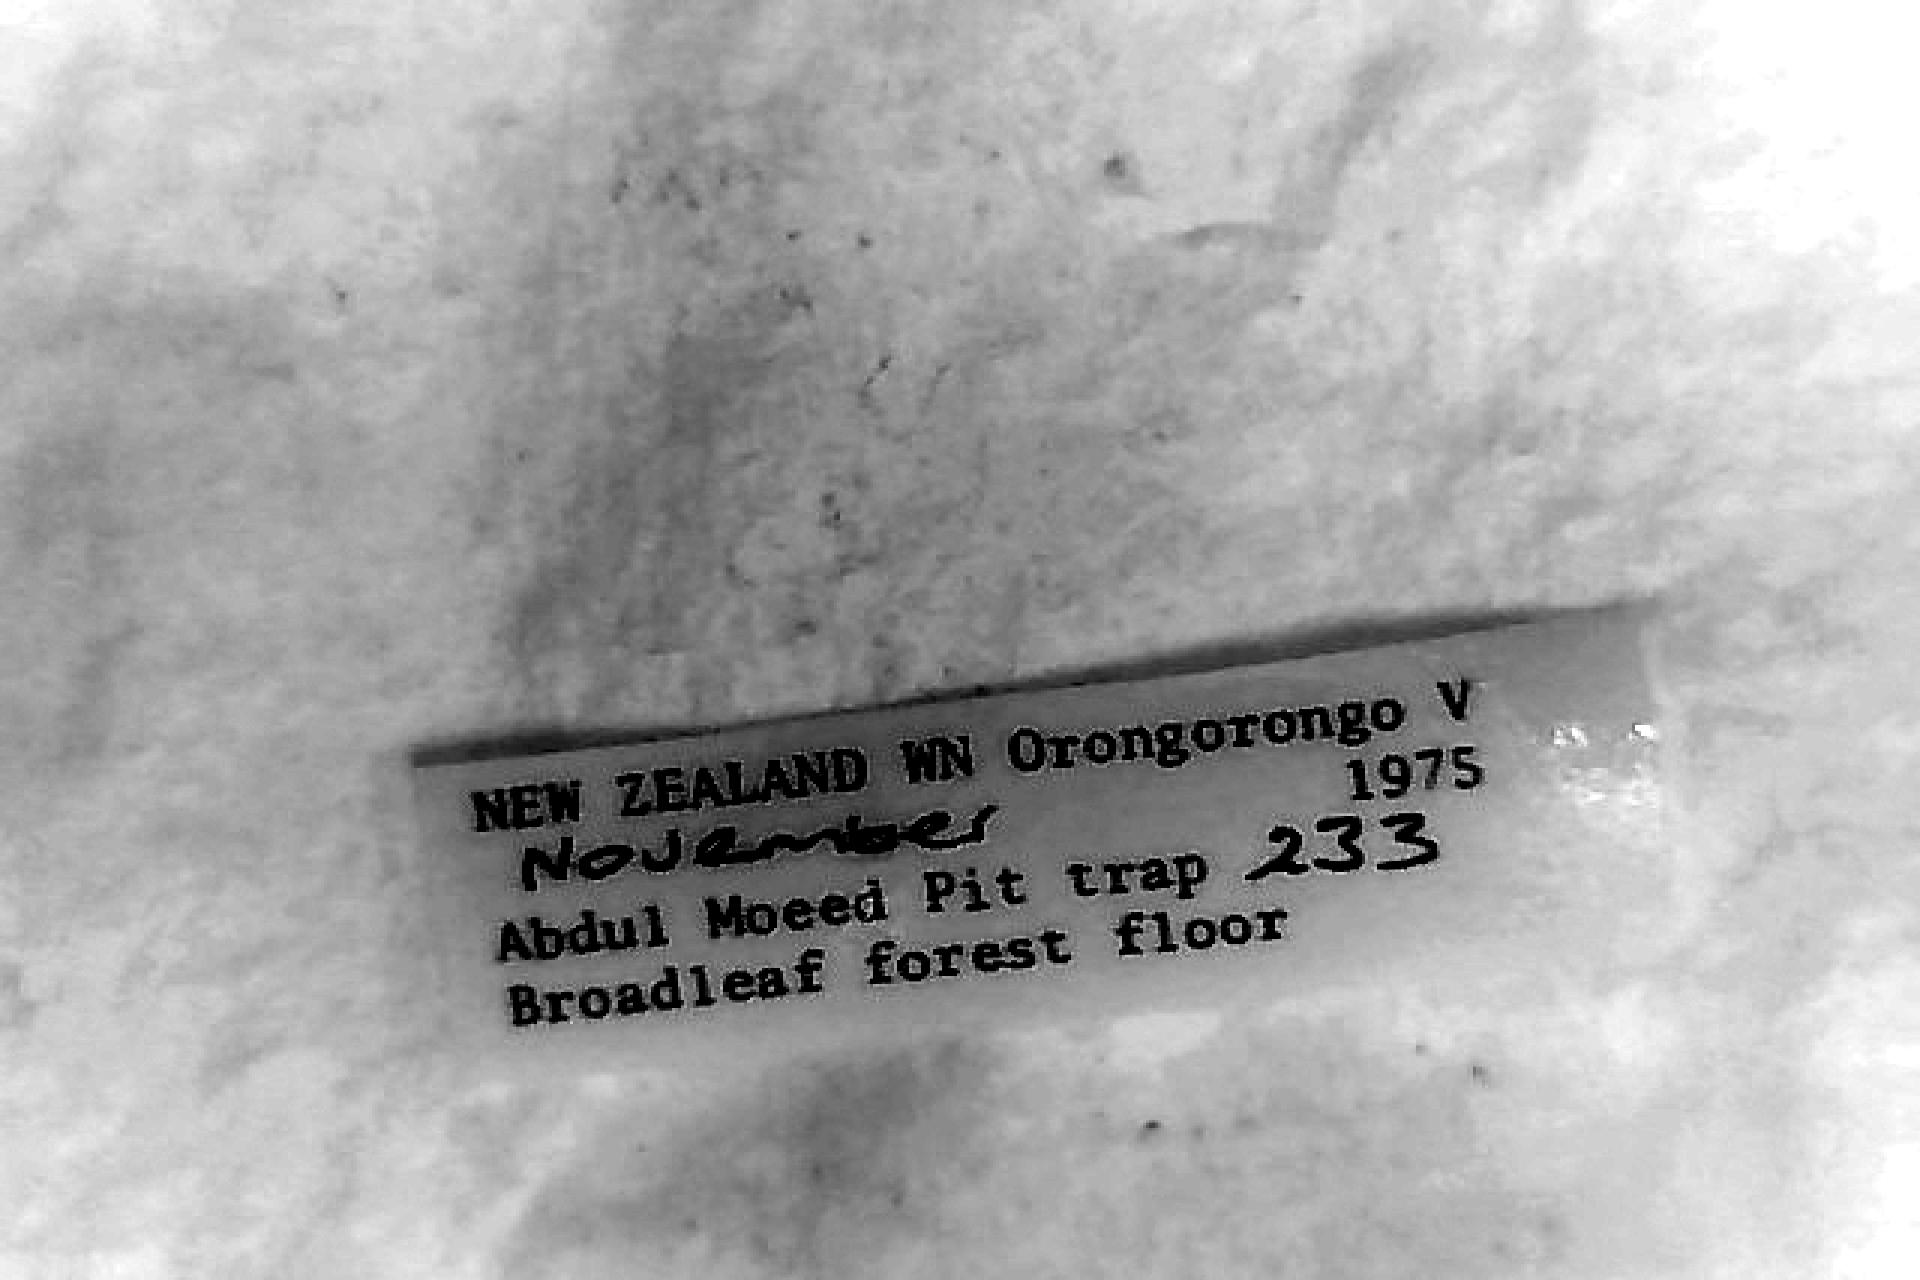mixed_label: (416, 607, 1661, 1057)
